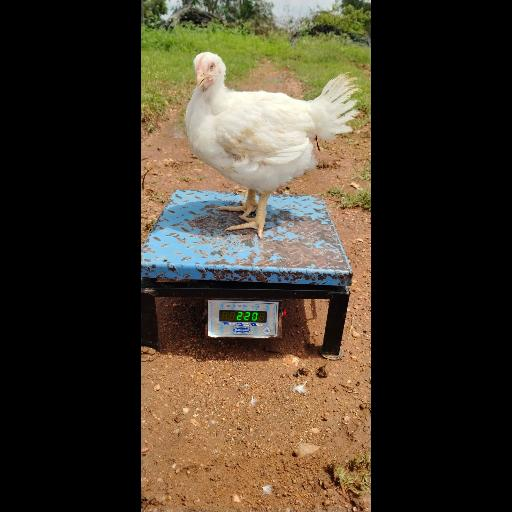chick: (184, 51, 362, 236)
